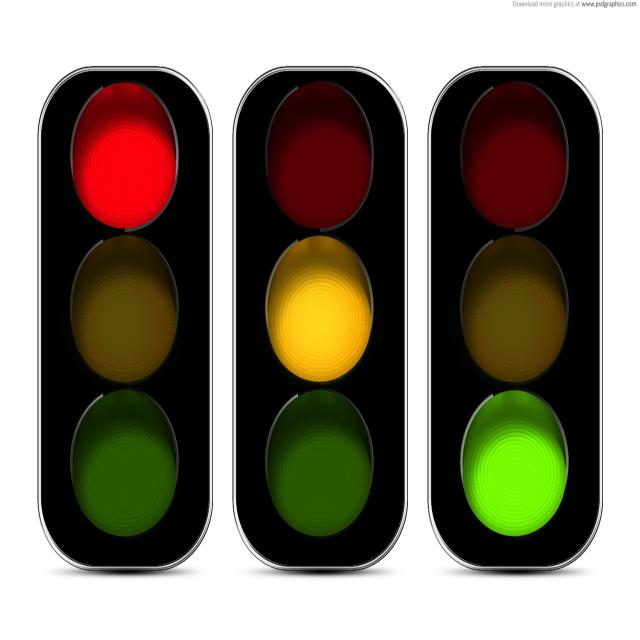green-lights: (462, 386, 572, 540)
red-lights: (62, 79, 182, 226)
yellow-lights: (261, 236, 386, 386)
